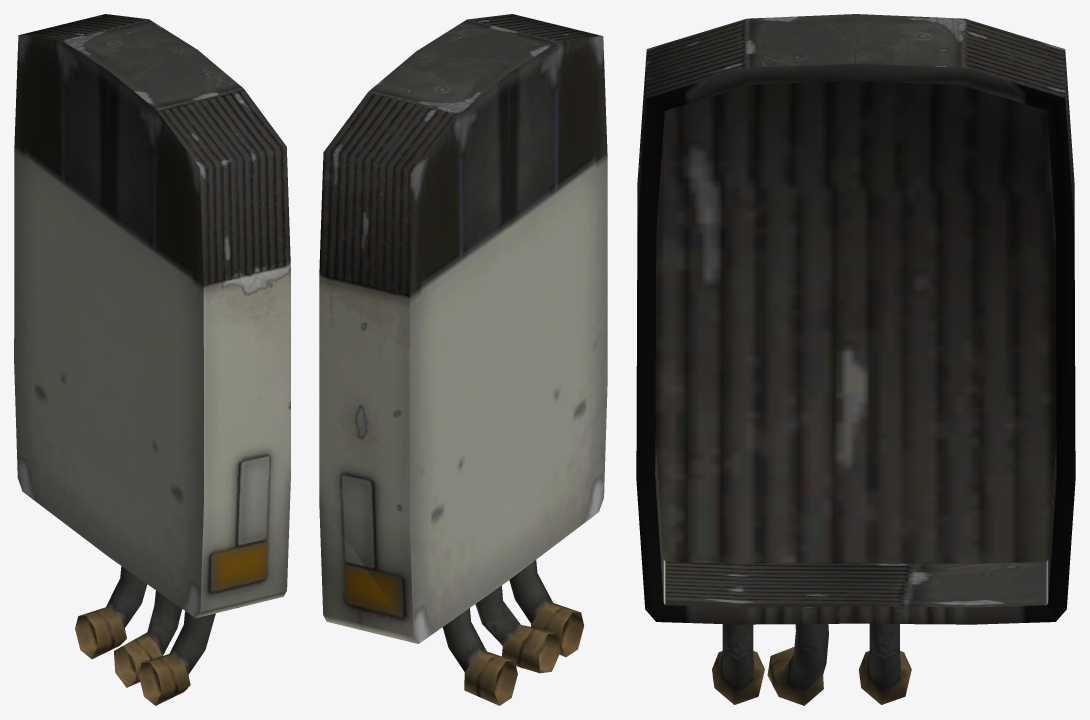
File: Breaker02.FBX
3 views of the same model, side by side, from view 1: azimuth 30°, elevation 25°; view 2: azimuth 150°, elevation 25°; view 3: azimuth 270°, elevation 25° (orthographic). The views are drawn at different scales.
Visible parts, largest first — view 1: Breaker02; view 2: Breaker02; view 3: Breaker02.
Boxes of the visible parts, x1=… form: Breaker02: x1=14, y1=14, x2=290, y2=705; Breaker02: x1=319, y1=14, x2=607, y2=705; Breaker02: x1=636, y1=14, x2=1075, y2=705.
Bounding box in the file's own units: 0.141 × 0.7961 × 0.4636.
